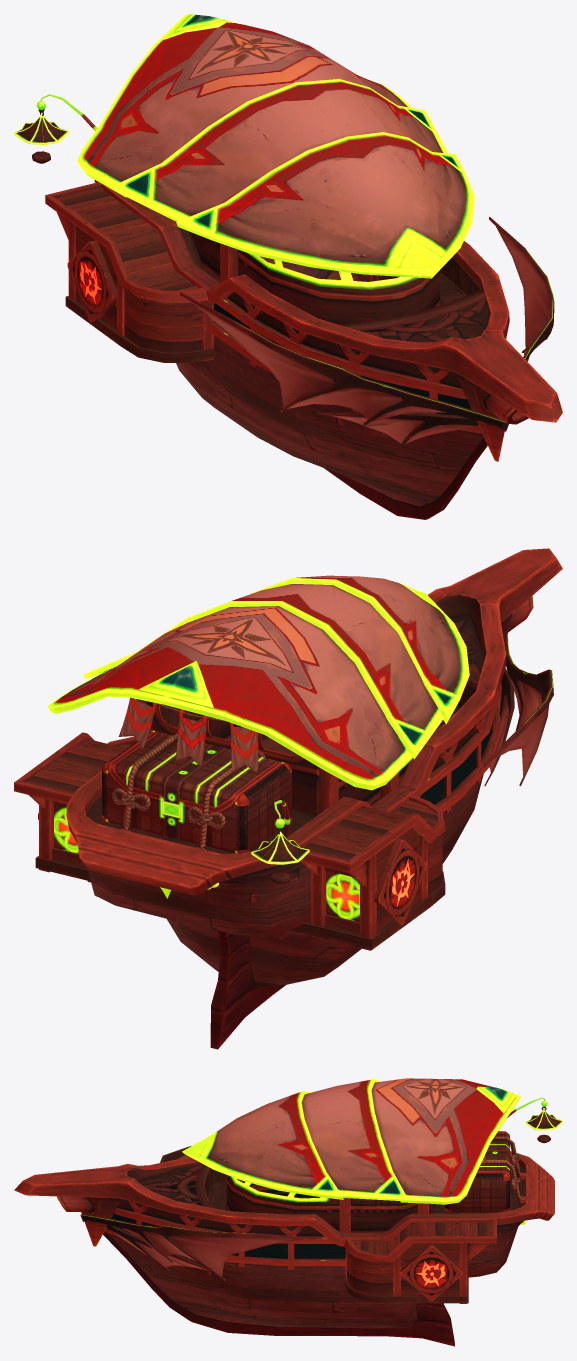
Rendered from boat.fbx.
3 renders of one model, top to bottom at view 1: azimuth 30°, elevation 25°; view 2: azimuth 150°, elevation 25°; view 3: azimuth 270°, elevation 25°, orthographic. The views are drawn at different scales.
Visible parts, largest first — view 1: boat; view 2: boat; view 3: boat.
Boxes of the visible parts, box(x1,y1,x2,y2) form: boat: box(14, 14, 562, 519); boat: box(14, 548, 562, 1049); boat: box(14, 1078, 562, 1346).
Size of the model in its own units: 68.63 by 77.27 by 148.
